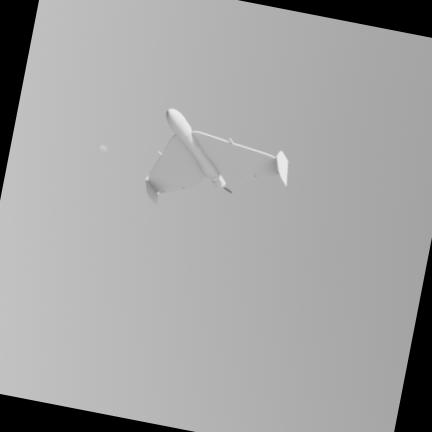Shahed: (146, 108, 287, 205)
